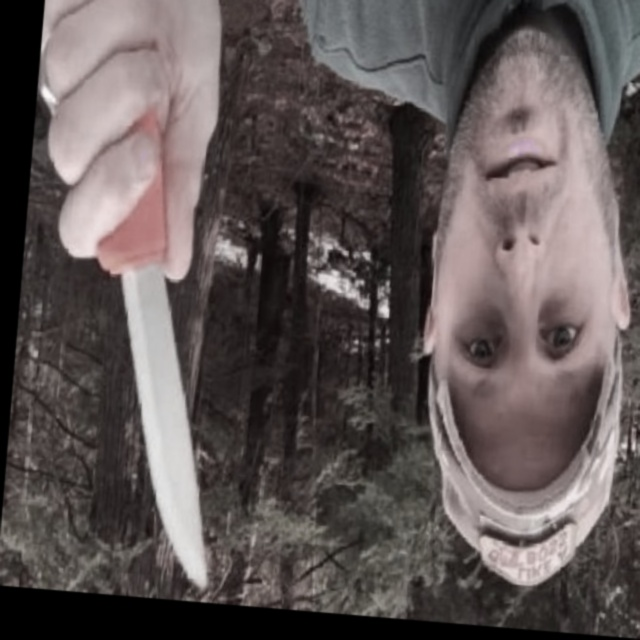Sharp-Object: (7, 0, 263, 589)
